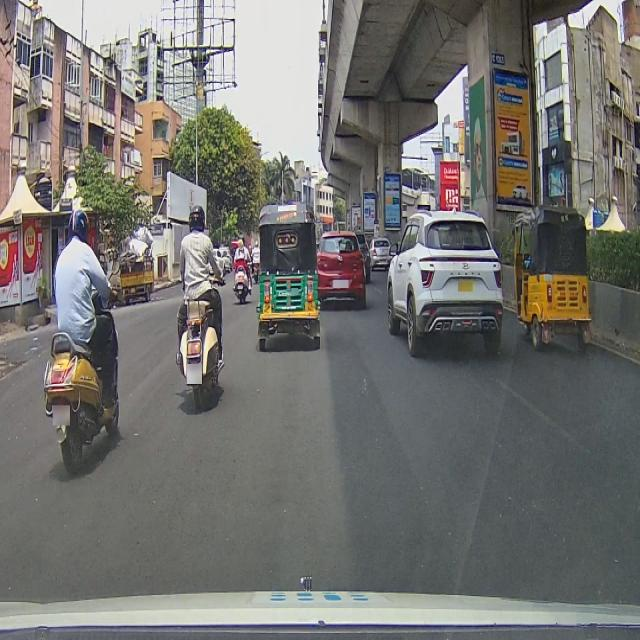auto ahead at: (508, 209, 597, 342), (255, 209, 322, 343)
car ahead at: (383, 209, 506, 351)
motorcycle ahead at: (46, 328, 127, 470), (169, 296, 231, 410)
